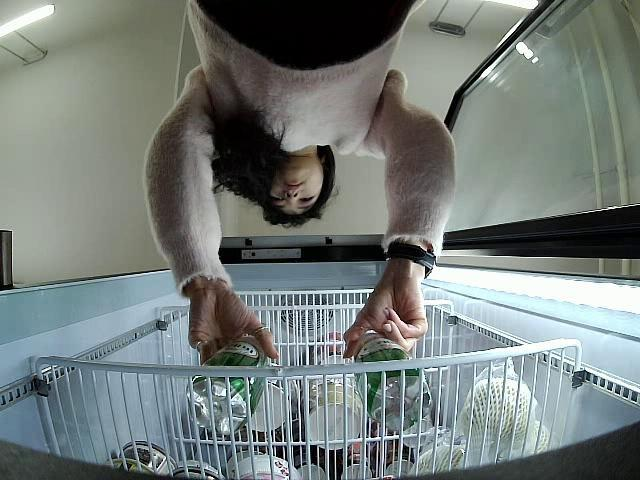18_trevi: (352, 330, 433, 432), (186, 336, 265, 436)
